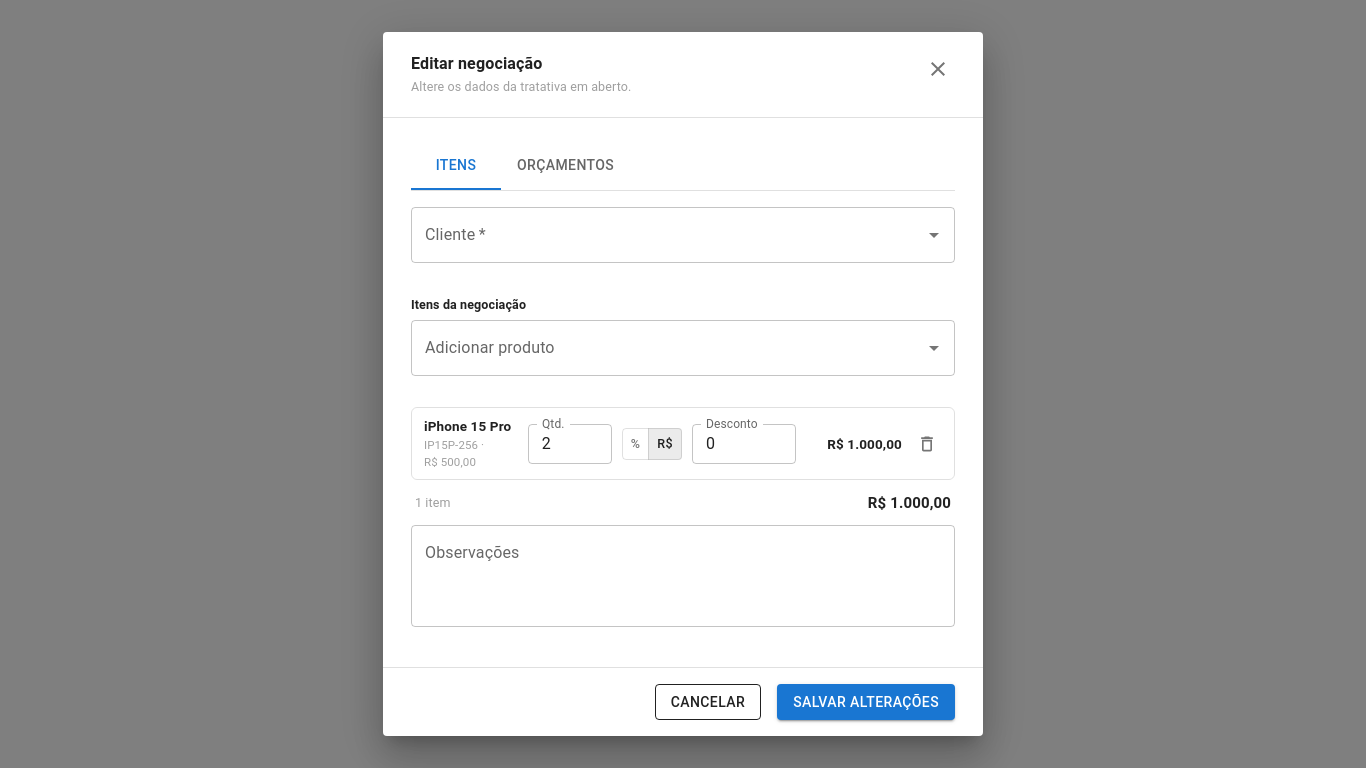
Scenario: NegotiationFormModal — aba Orçamentos (spec 011, ticket 02) › taxa inválida aponta o erro e não mostra valor na linha
Click the tab "Orçamentos": click(566, 166) [501,142,630,190]
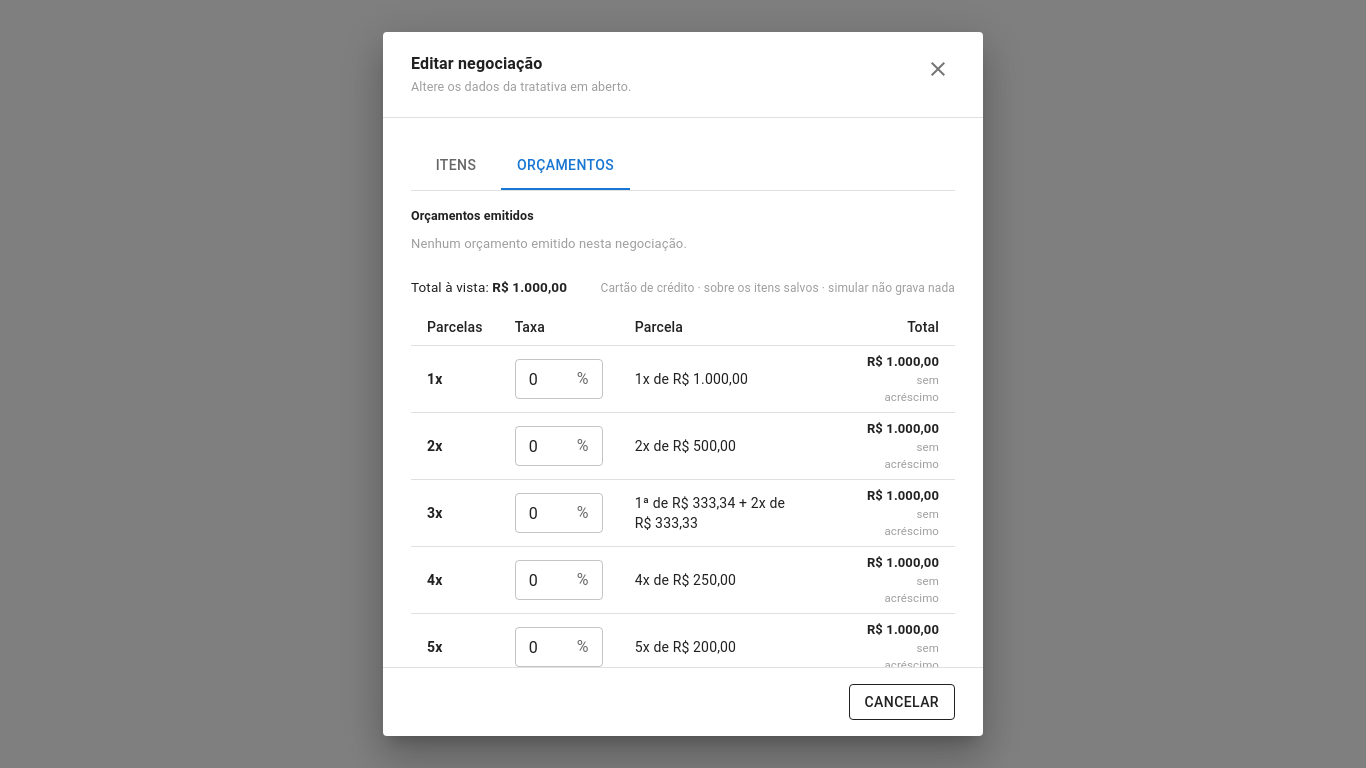
Click the number field named "Taxa 2x": click(542, 446) [515,426,569,466]
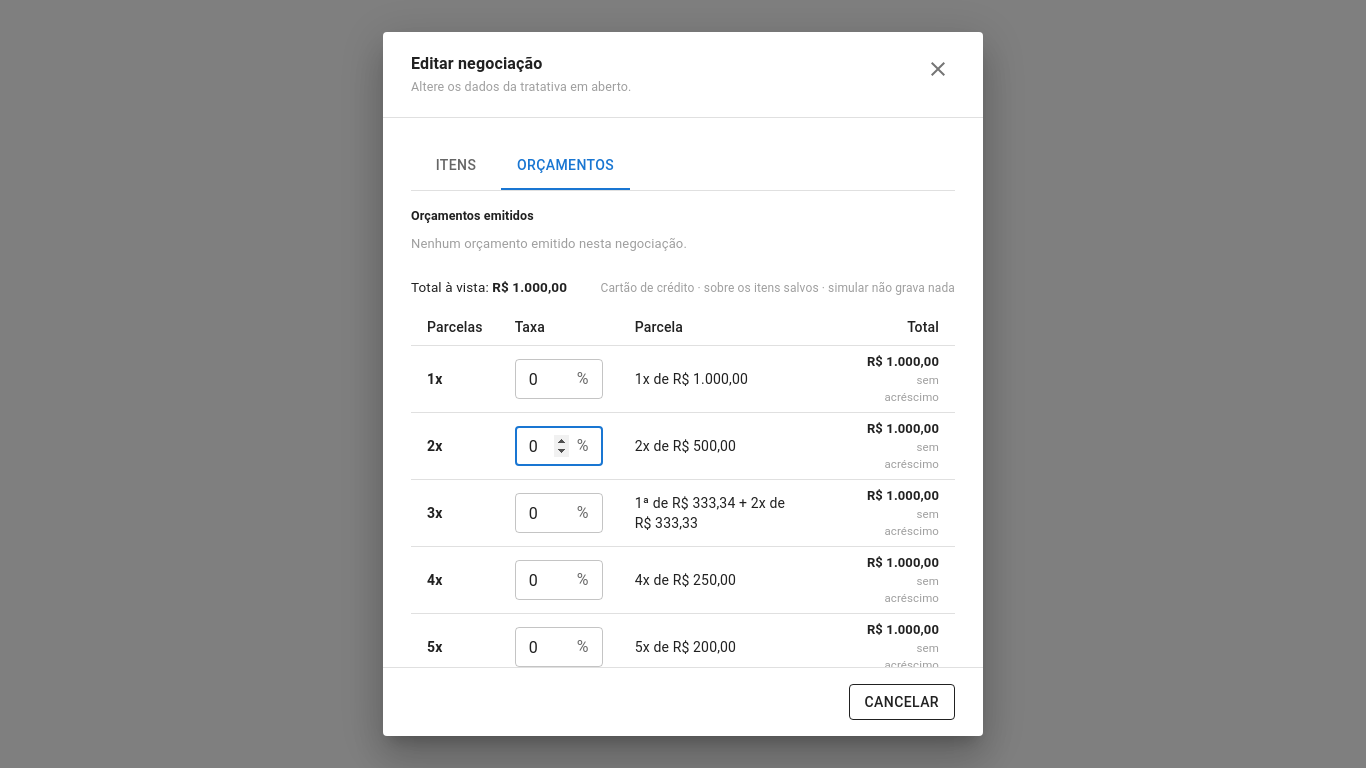
Type keys "101"
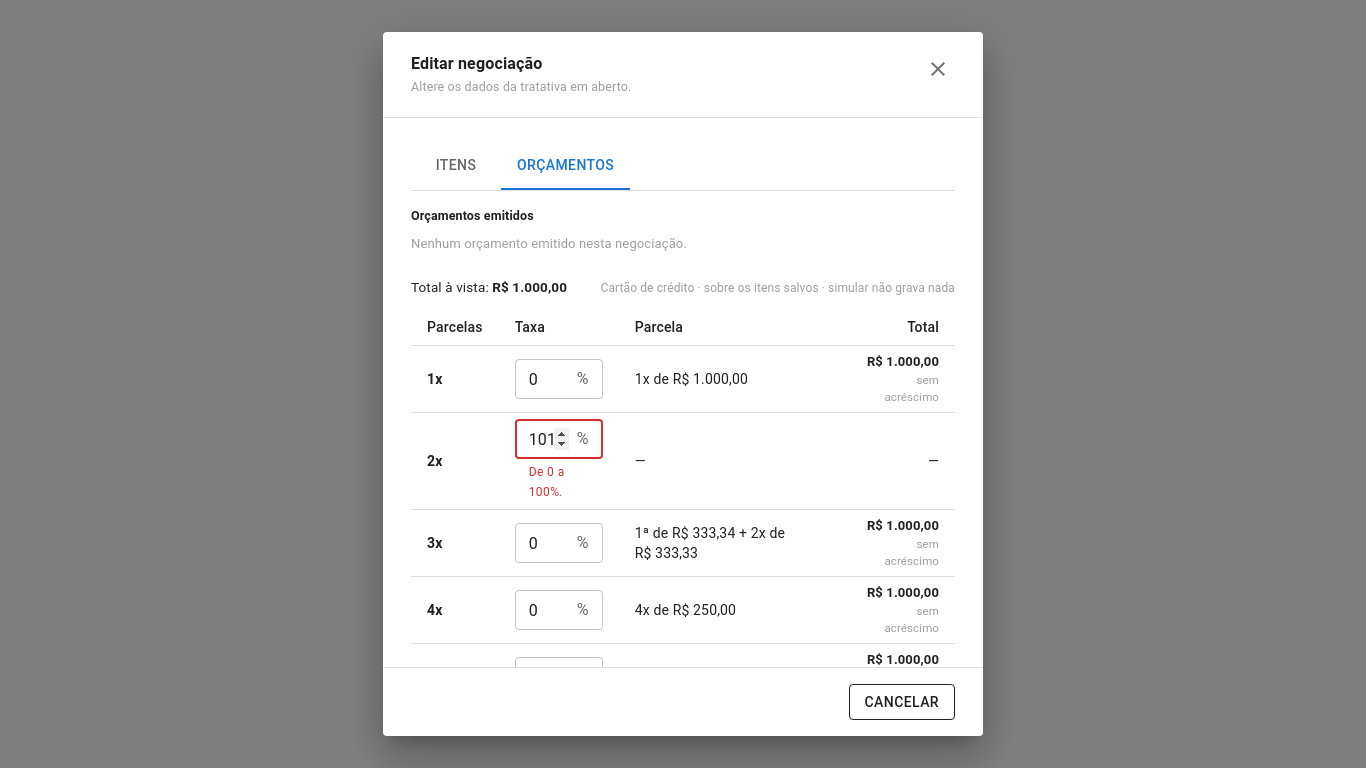
expect the text "De 0 a 100%." is shown: met, box [529,465,565,499]
